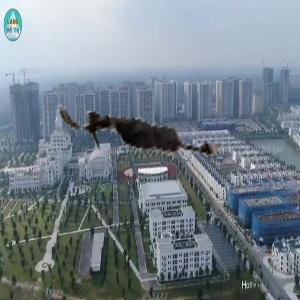drone: (59, 44, 245, 230)
